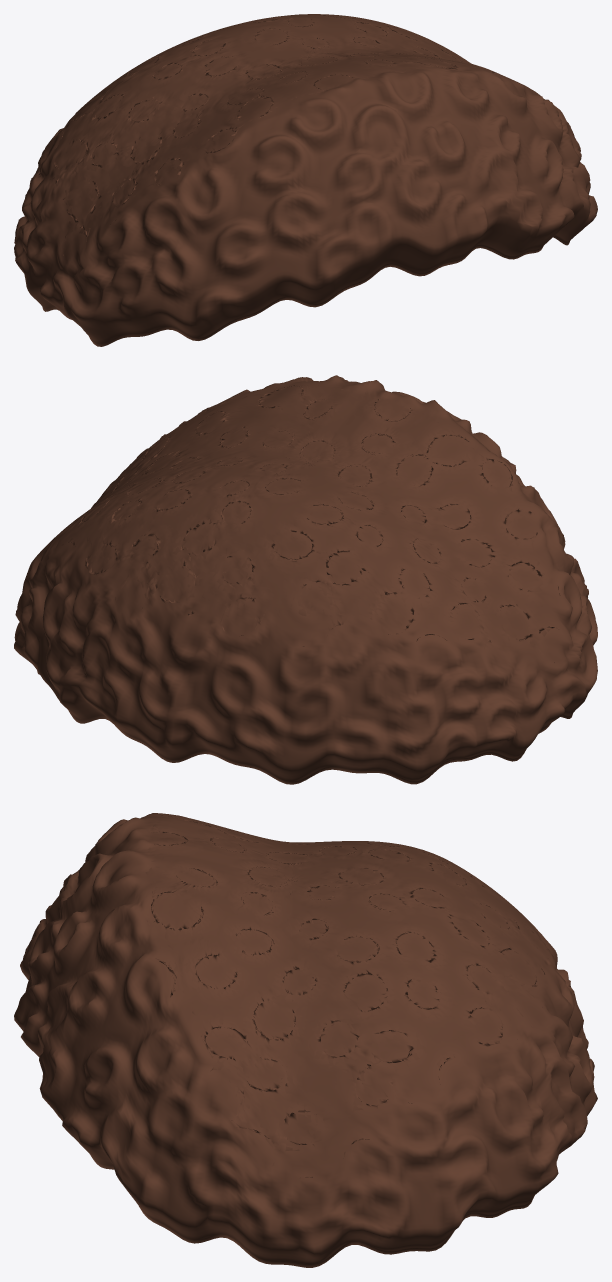
The model's file is Masculine-afro-pashmina251-hair.glb.
3 views of the same model, one above another, from view 1: azimuth 30°, elevation 25°; view 2: azimuth 150°, elevation 25°; view 3: azimuth 270°, elevation 25° (orthographic). The views are drawn at different scales.
Visible parts, largest first — view 1: 226 hair / Hair / sculpted afro251.001; view 2: 226 hair / Hair / sculpted afro251.001; view 3: 226 hair / Hair / sculpted afro251.001.
Part boxes in pixels (x1,y1,x2,y2): 226 hair / Hair / sculpted afro251.001: (14, 14, 597, 346); 226 hair / Hair / sculpted afro251.001: (14, 375, 597, 784); 226 hair / Hair / sculpted afro251.001: (14, 813, 597, 1267).
Bounding box in the file's own units: 1.01 × 0.4552 × 0.8348.
